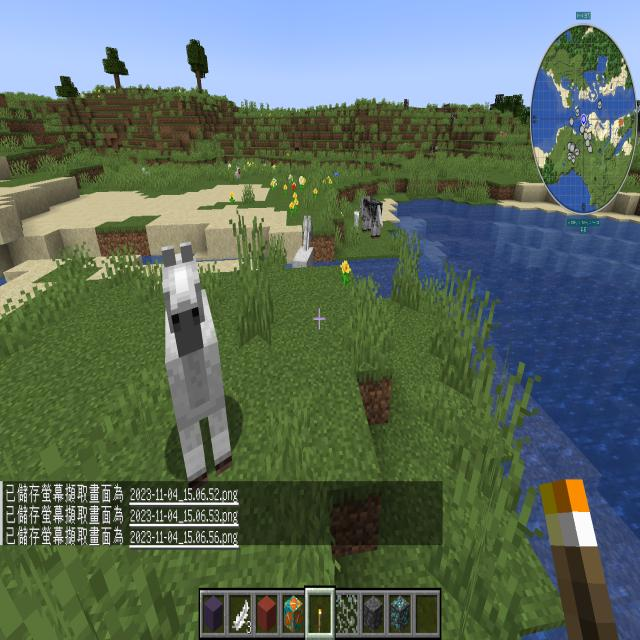chicken: (234, 162, 245, 187), (139, 166, 150, 182)
cow: (448, 109, 462, 134), (401, 93, 415, 115), (429, 141, 442, 160)
pig: (494, 128, 512, 144)
